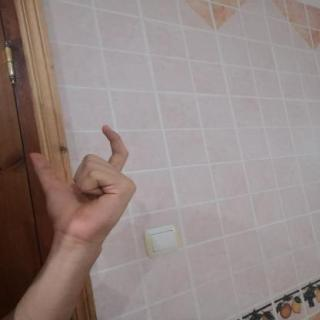NOON: (18, 115, 147, 257)
